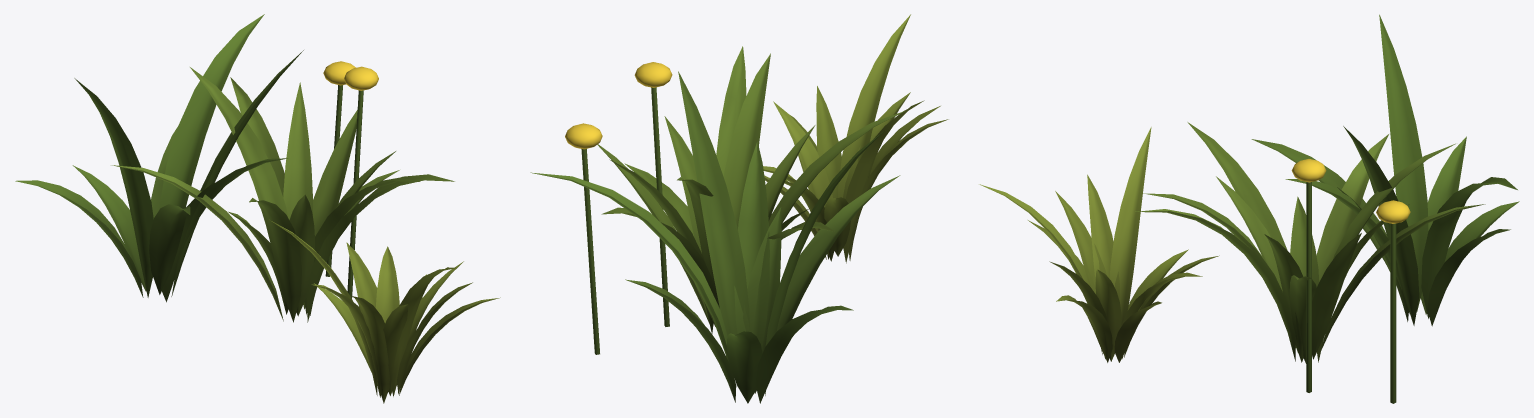
File: yd_weeds__224.glb
3 renders of one model, left to right at view 1: azimuth 30°, elevation 25°; view 2: azimuth 150°, elevation 25°; view 3: azimuth 270°, elevation 25°, orthographic. The views are drawn at different scales.
Visible parts, largest first — view 1: prop_yd_weeds; view 2: prop_yd_weeds; view 3: prop_yd_weeds.
Part boxes in pixels (box(x1,y1,x2,y2)): prop_yd_weeds: box(15, 14, 500, 403); prop_yd_weeds: box(530, 14, 948, 403); prop_yd_weeds: box(979, 14, 1519, 403).
Size of the model in its own units: 0.4783 by 0.4007 by 0.7473.
